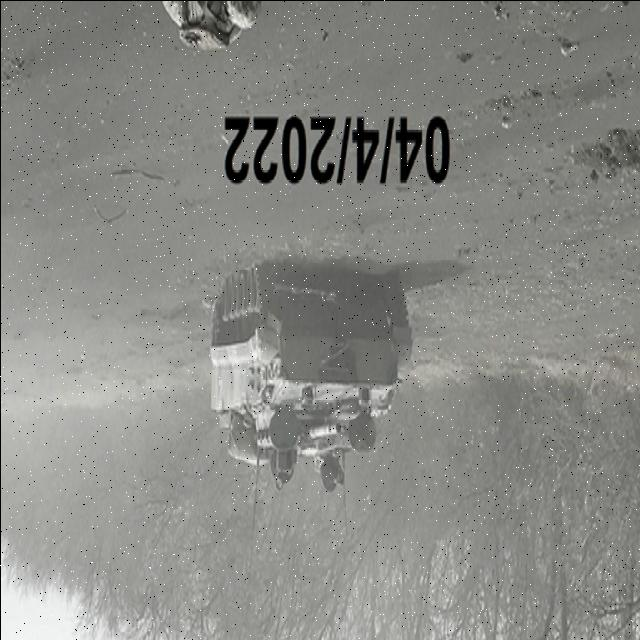APC-IFV: (202, 257, 422, 493)
